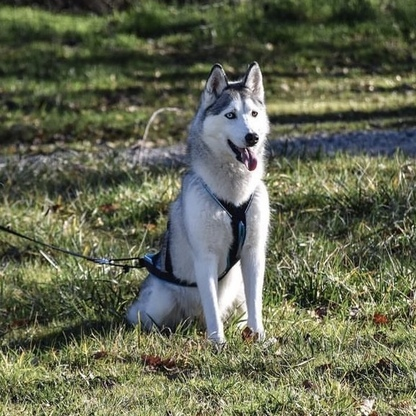husky: (113, 55, 280, 349)
